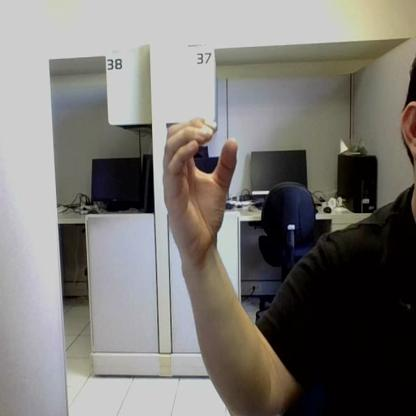C: (163, 118, 237, 255)
